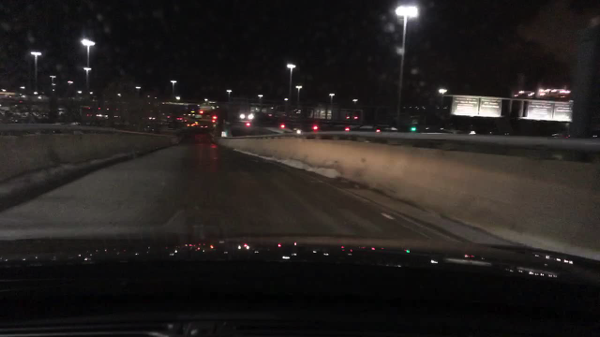car: (345, 109, 380, 123), (269, 106, 296, 123), (235, 109, 256, 123), (312, 107, 336, 119), (248, 105, 271, 117), (199, 125, 208, 130), (176, 117, 184, 122), (193, 122, 199, 127), (187, 124, 193, 127)
traffic light: (245, 119, 251, 128), (312, 122, 317, 132), (213, 112, 217, 123), (375, 126, 380, 134), (411, 124, 415, 134), (280, 123, 285, 130), (345, 124, 348, 132)
traffic sign: (447, 96, 479, 118), (523, 100, 554, 122), (477, 96, 502, 118), (552, 103, 572, 123), (198, 103, 213, 111)
